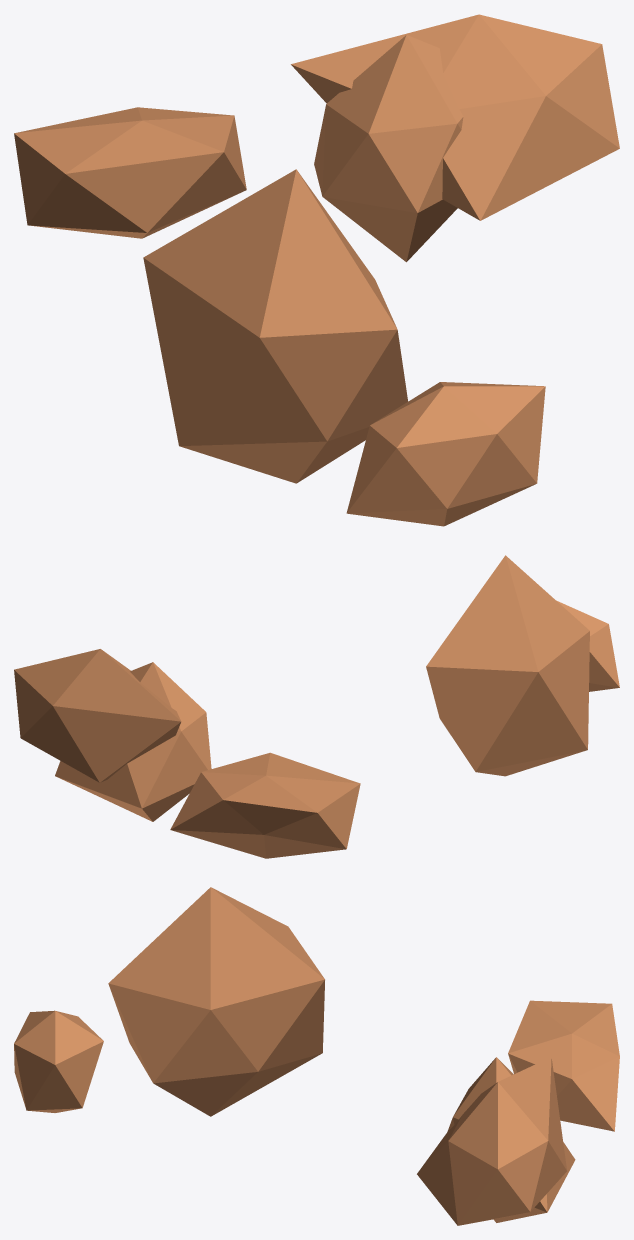
Rendered from rock_cluster.glb.
The picture shows the model from 3 angles, top to bottom: view 1: azimuth 30°, elevation 25°; view 2: azimuth 150°, elevation 25°; view 3: azimuth 270°, elevation 25°; orthographic projection. The views are drawn at different scales.
Parts seen in each view (by area): view 1: rock_0, rock_2, rock_4, rock_3, rock_1; view 2: rock_0, rock_2, rock_4, rock_3, rock_1; view 3: rock_0, rock_2, rock_4, rock_1, rock_3.
Boxes of the visible parts, x1,y1,x2,y2 form: rock_0: (143, 169, 407, 483); rock_2: (291, 14, 619, 220); rock_4: (14, 107, 246, 238); rock_3: (314, 35, 463, 262); rock_1: (346, 382, 545, 526); rock_0: (426, 555, 589, 776); rock_2: (14, 649, 181, 782); rock_4: (170, 752, 360, 858); rock_3: (55, 662, 211, 821); rock_1: (556, 600, 619, 691); rock_0: (108, 887, 324, 1116); rock_2: (417, 1057, 566, 1225); rock_4: (508, 1000, 619, 1131); rock_1: (14, 1010, 103, 1112); rock_3: (447, 1057, 575, 1222).
Bounding box in the file's own units: 9.24 × 4.48 × 10.71.
